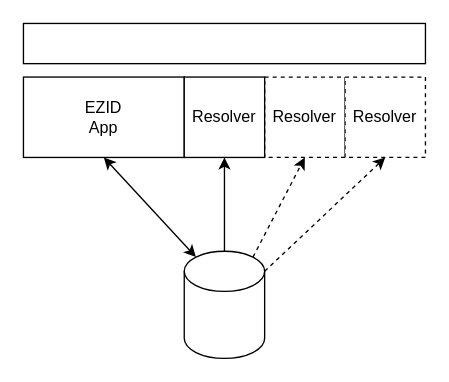
Some shapes in this 449 by 382 pixel diagram are drawn without their labels. The centre of each missing label's shape, as x and y in pixels:
Load Balancer: pixel 223 43
RDS: pixel 224 304
